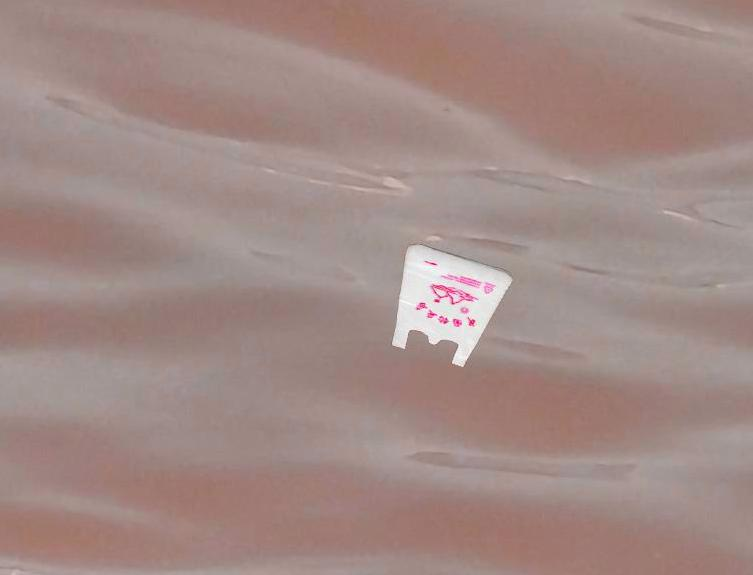Trash: (390, 241, 515, 370)
